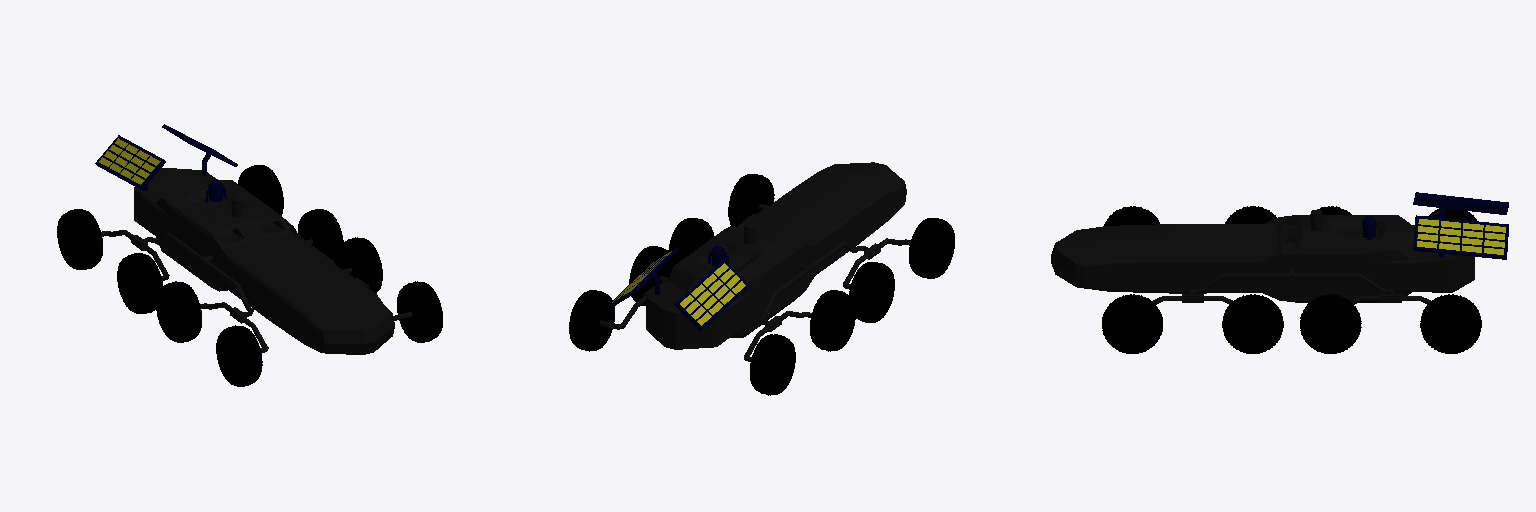
The model's file is roverBody.obj.
3 views of the same model, side by side, from view 1: azimuth 30°, elevation 25°; view 2: azimuth 150°, elevation 25°; view 3: azimuth 270°, elevation 25° (orthographic).
Parts seen in each view (by area): view 1: Cylinder.001; view 2: Cylinder.001; view 3: Cylinder.001.
Boxes of the visible parts, <box> form: Cylinder.001: <box>57,124,442,386</box>; Cylinder.001: <box>569,162,954,395</box>; Cylinder.001: <box>1051,192,1508,353</box>.
Bounding box in the file's own units: 4.37 × 2.15 × 8.55.